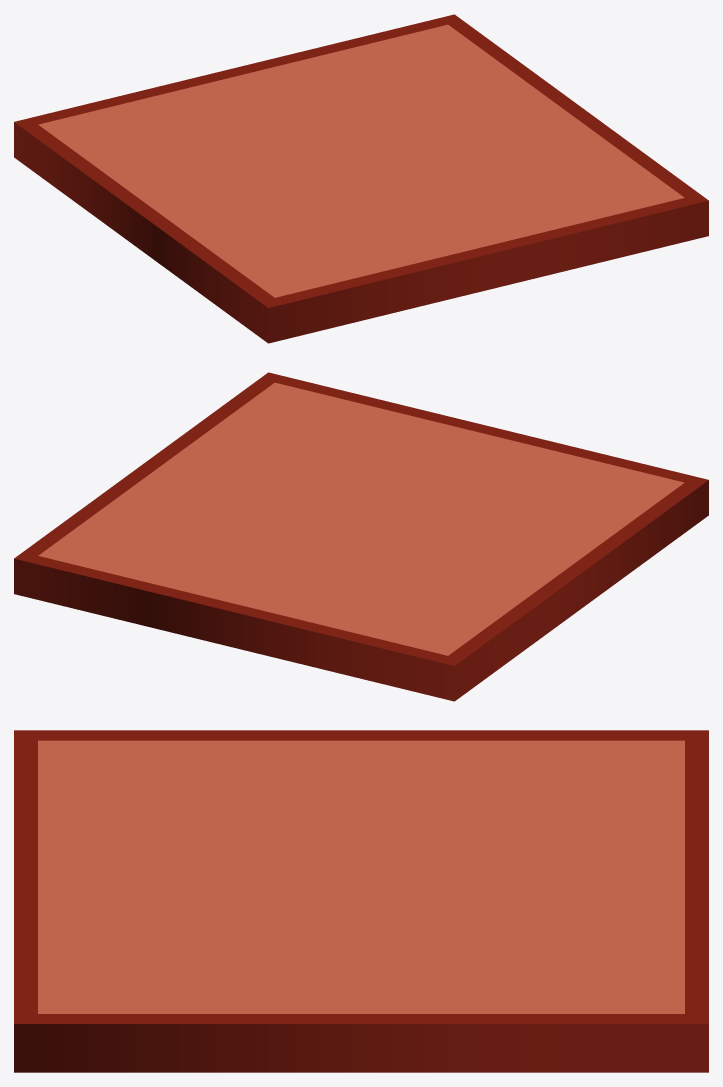
Rendered from Ham.FBX.
3 renders of one model, top to bottom at view 1: azimuth 30°, elevation 25°; view 2: azimuth 150°, elevation 25°; view 3: azimuth 270°, elevation 25°, orthographic. The views are drawn at different scales.
Visible parts, largest first — view 1: Cylinder005; view 2: Cylinder005; view 3: Cylinder005.
Boxes of the visible parts, x1,y1,x2,y2 form: Cylinder005: (14, 14, 708, 343); Cylinder005: (14, 372, 708, 701); Cylinder005: (14, 730, 708, 1072).
Bounding box in the file's own units: 25.13 × 1.93 × 25.13.
